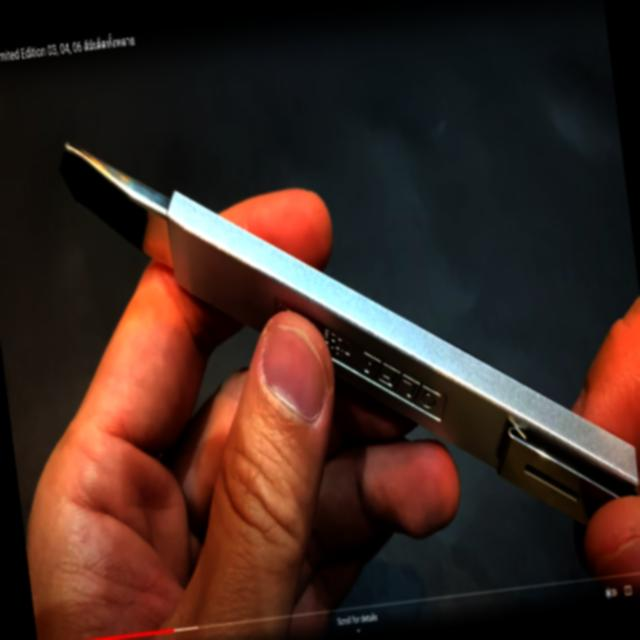cutter: (15, 95, 640, 640)
